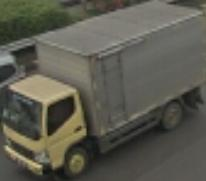truck: (1, 71, 98, 179)
